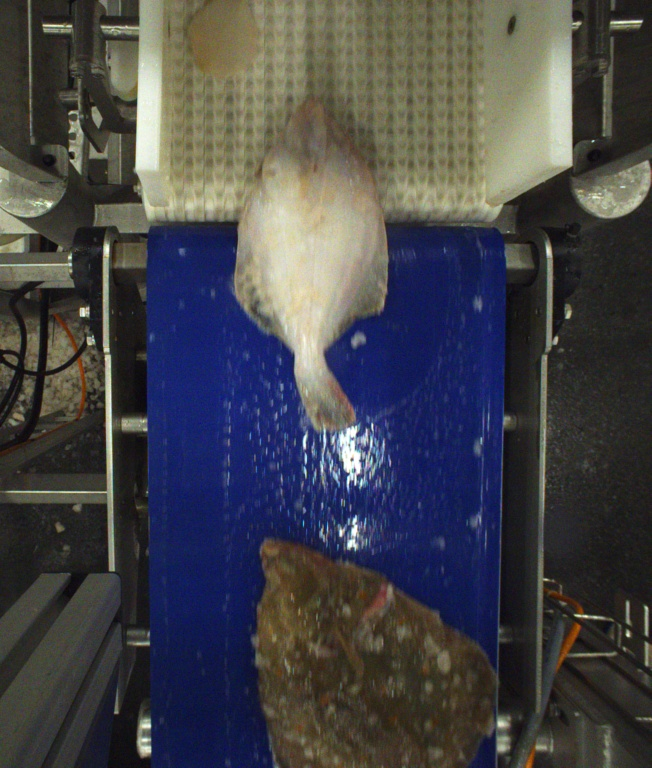PLE: (233, 99, 390, 432)
